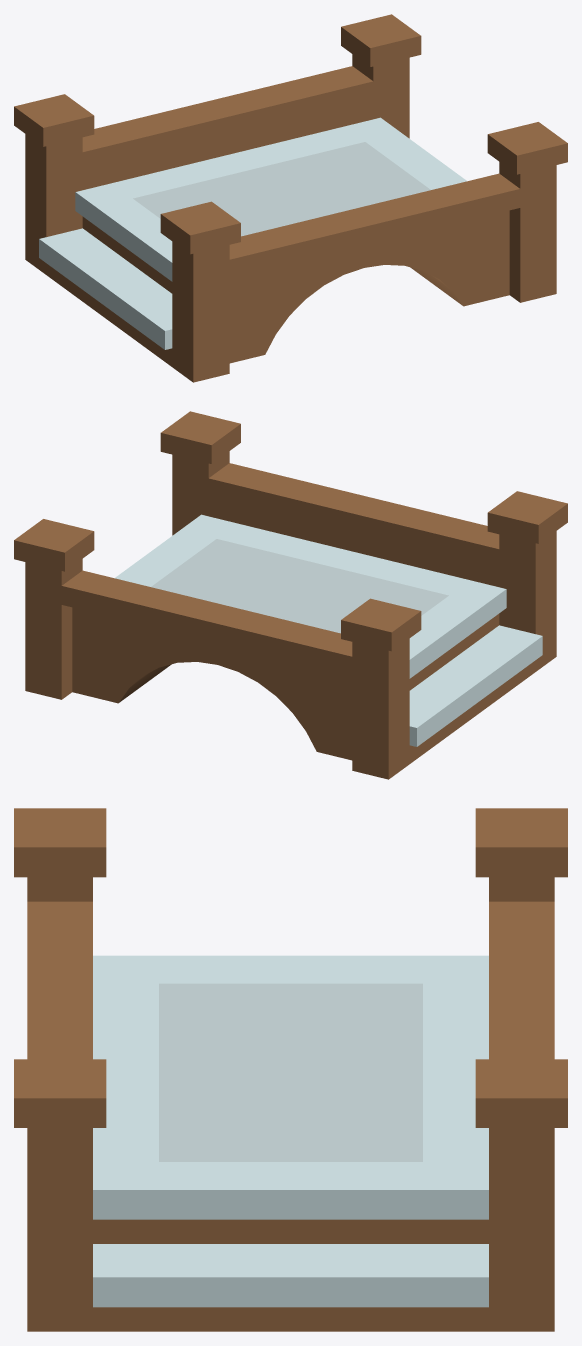
File: bridge-1.glb
The picture shows the model from 3 angles, top to bottom: view 1: azimuth 30°, elevation 25°; view 2: azimuth 150°, elevation 25°; view 3: azimuth 270°, elevation 25°; orthographic projection. The views are drawn at different scales.
Visible parts, largest first — view 1: bridge_woodRoundNarrow; view 2: bridge_woodRoundNarrow; view 3: bridge_woodRoundNarrow.
Boxes of the visible parts, bbox=[...] form: bridge_woodRoundNarrow: bbox=[14, 14, 567, 382]; bridge_woodRoundNarrow: bbox=[14, 411, 567, 779]; bridge_woodRoundNarrow: bbox=[14, 808, 567, 1331].
Size of the model in its own units: 1.69 by 0.6499 by 1.37.
